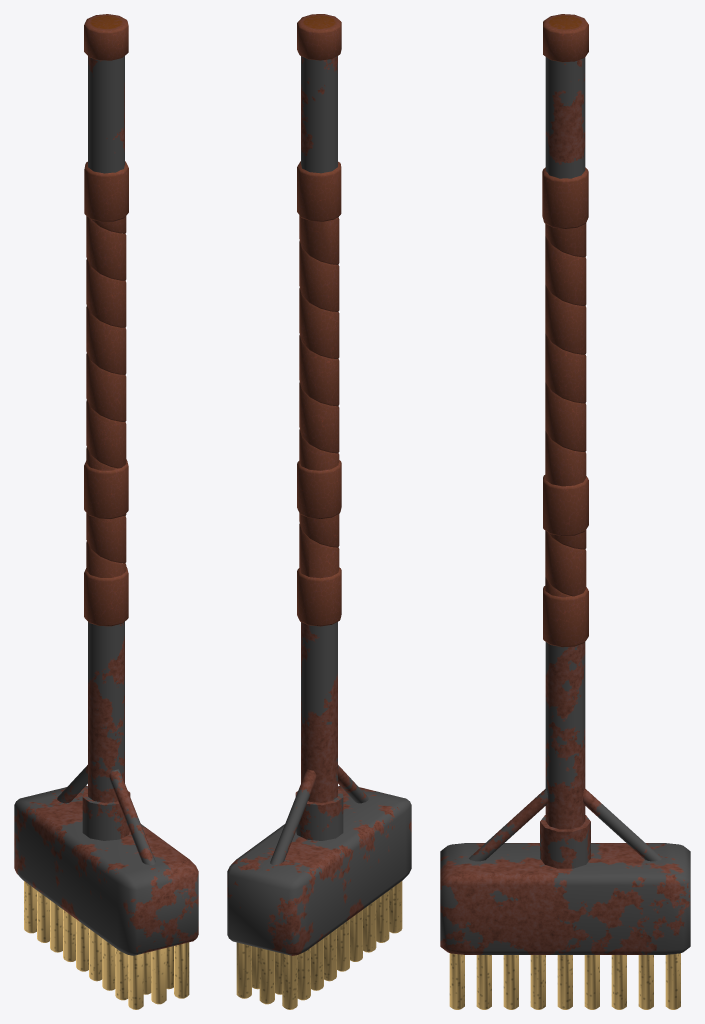
The model's file is brush.gltf.
The picture shows the model from 3 angles, left to right: view 1: azimuth 30°, elevation 25°; view 2: azimuth 150°, elevation 25°; view 3: azimuth 270°, elevation 25°; orthographic projection. The views are drawn at different scales.
Parts seen in each view (by area): view 1: Brush; view 2: Brush; view 3: Brush.
Part boxes in pixels (left/top/right/bottom): Brush: left=14, top=14, right=198, bottom=1009; Brush: left=227, top=14, right=411, bottom=1009; Brush: left=440, top=14, right=690, bottom=1009.
Size of the model in its own units: 0.1 by 1.2 by 0.28.
Materials: 1 (1 with a texture image).
